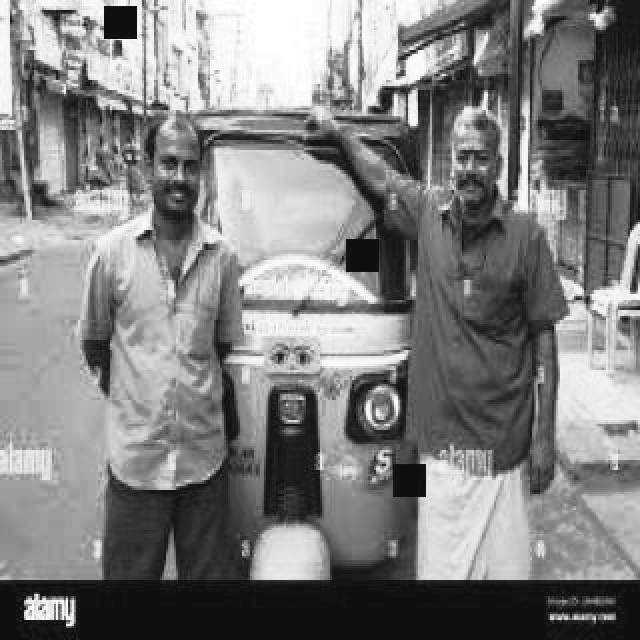Auto-Rickshaw: (144, 106, 436, 580)
